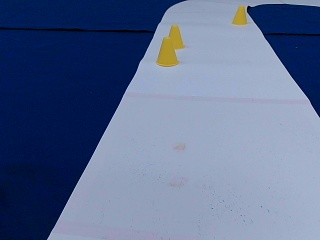cone: (157, 39, 179, 67), (167, 25, 183, 50), (232, 6, 248, 25)
